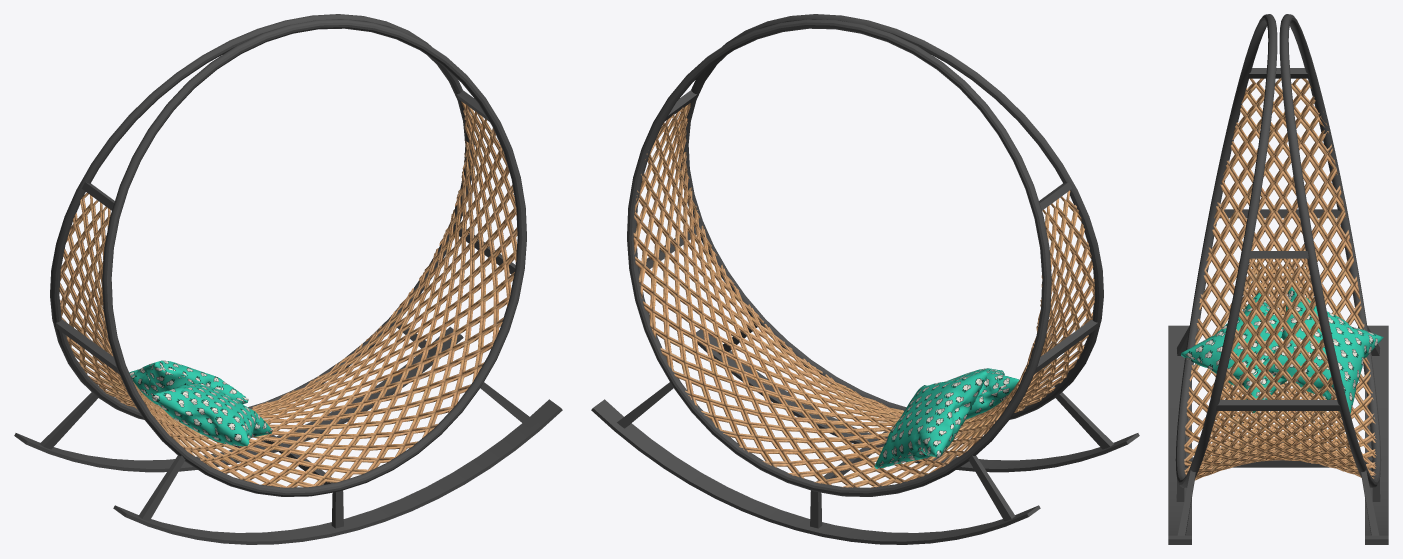
File: swing_chair.glb
3 renders of one model, left to right at view 1: azimuth 30°, elevation 25°; view 2: azimuth 150°, elevation 25°; view 3: azimuth 270°, elevation 25°, orthographic.
Parts seen in each view (by area): view 1: wood, metal_ring, cushion; view 2: wood, metal_ring, cushion; view 3: wood, metal_ring, cushion.
Part boxes in pixels (bbox=[...]): wood: bbox=[59, 101, 517, 487]; metal_ring: bbox=[14, 14, 562, 544]; cushion: bbox=[113, 360, 272, 446]; wood: bbox=[633, 103, 1094, 487]; metal_ring: bbox=[591, 14, 1139, 544]; cushion: bbox=[874, 368, 1019, 468]; wood: bbox=[1184, 78, 1376, 480]; metal_ring: bbox=[1168, 14, 1388, 544]; cushion: bbox=[1181, 287, 1383, 413].
Size of the model in its own units: 1.87 by 1.92 by 0.8227.
Materials: 3 (2 with a texture image).
